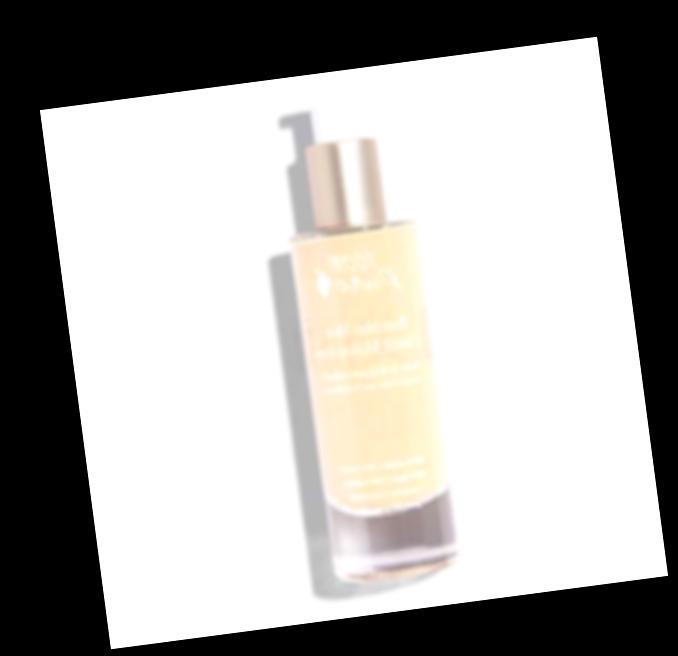cosmetic: (270, 85, 464, 578)
